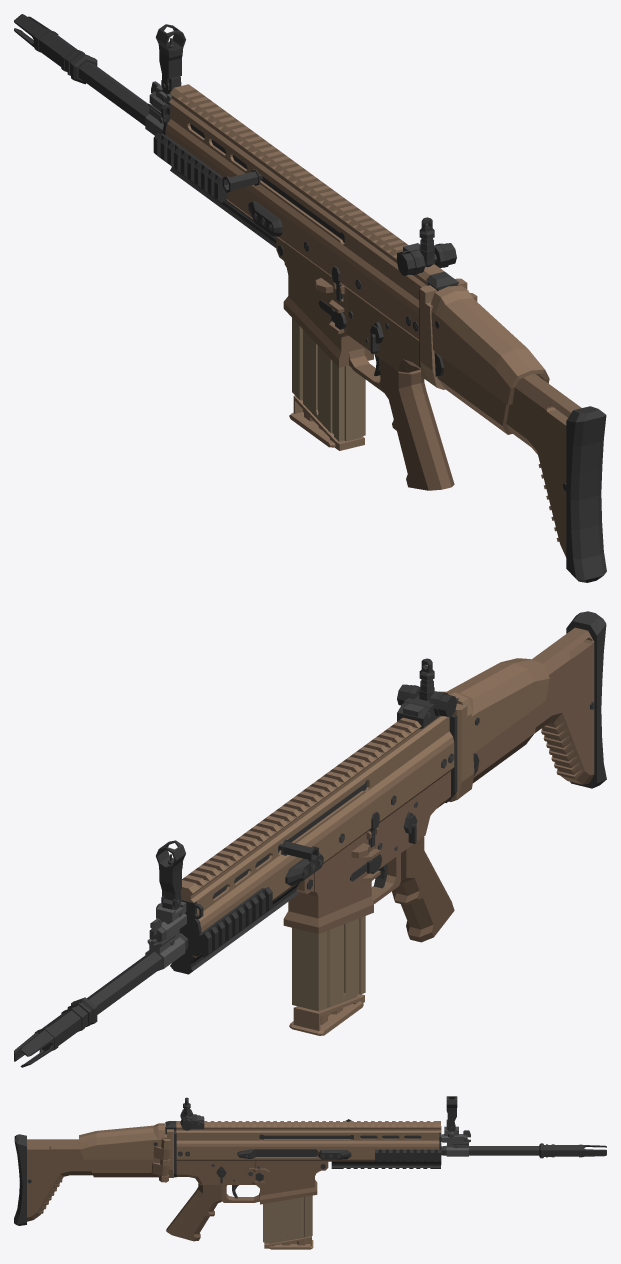
The model's file is gun_rifle_marksman.glb.
3 views of the same model, one above another, from view 1: azimuth 30°, elevation 25°; view 2: azimuth 150°, elevation 25°; view 3: azimuth 270°, elevation 25° (orthographic). The views are drawn at different scales.
Visible parts, largest first — view 1: Object_29_baked, Object_30_baked, Object_28_baked, Object_23_baked, Object_32_baked, Object_33_baked; view 2: Object_29_baked, Object_30_baked, Object_23_baked, Object_28_baked, Object_32_baked, Object_33_baked, Object_31_baked, Object_27_baked; view 3: Object_29_baked, Object_30_baked, Object_28_baked, Object_23_baked, Object_32_baked, Object_33_baked, Object_31_baked, Object_27_baked.
Part boxes in pixels (x1,y1,x2,y2): Object_29_baked: [166, 84, 549, 450]; Object_30_baked: [276, 237, 581, 557]; Object_28_baked: [78, 61, 606, 582]; Object_23_baked: [14, 14, 456, 376]; Object_32_baked: [292, 318, 365, 441]; Object_33_baked: [380, 359, 454, 490]; Object_29_baked: [181, 658, 549, 1035]; Object_30_baked: [283, 627, 594, 933]; Object_23_baked: [14, 658, 479, 1067]; Object_28_baked: [47, 611, 606, 1044]; Object_32_baked: [292, 916, 365, 1011]; Object_33_baked: [392, 837, 454, 942]; Object_31_baked: [145, 901, 186, 970]; Object_27_baked: [149, 695, 452, 945]; Object_29_baked: [79, 1121, 440, 1249]; Object_30_baked: [27, 1139, 328, 1221]; Object_28_baked: [14, 1108, 539, 1225]; Object_23_baked: [180, 1096, 606, 1168]; Object_32_baked: [263, 1195, 312, 1243]; Object_33_baked: [166, 1183, 221, 1241]; Object_31_baked: [441, 1126, 468, 1156]; Object_27_baked: [179, 1116, 470, 1181].
Size of the model in its own units: 0.073 by 0.2768 by 1.
